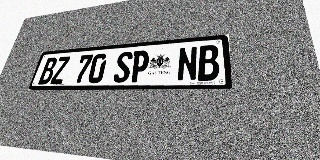0: (87, 53, 108, 83)
7: (73, 54, 93, 84)
B: (198, 44, 220, 81), (38, 57, 58, 84)
N: (177, 46, 198, 81)
P: (129, 50, 150, 82)
S: (112, 51, 133, 83)
Z: (50, 56, 70, 84)
